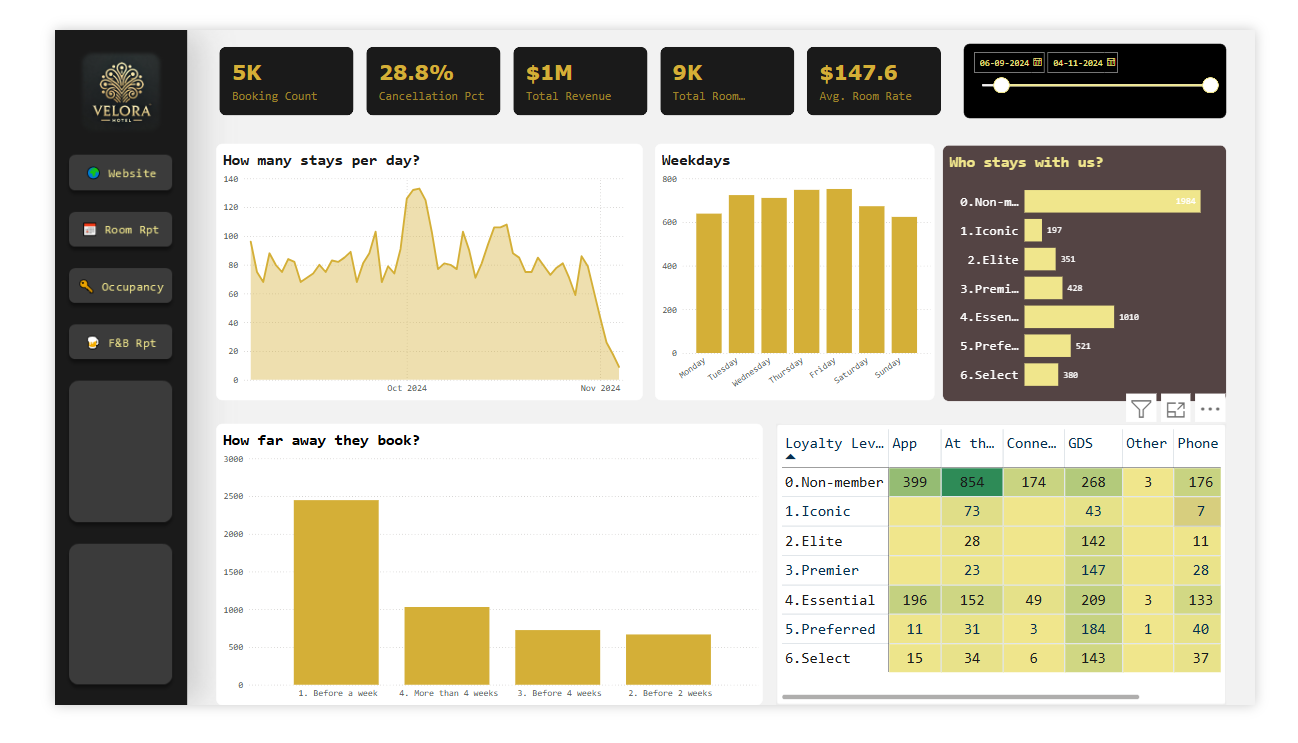

The page's visual inventory and layout, read from the dashboard file:
{"tool":"powerbi","page":{"name":"Bookings Reports","canvas":[1920,1080],"ordinal":0},"visuals":[{"type":"cardVisual","fields":{"Data":["bookings.Booking Count","bookings.Cancellation Pct","bookings.Total Revenue","bookings.Total Room Nights","bookings.Avg. Room Rate"]},"box":[258,22,1168,120],"z":0},{"type":"lineChart","title":"How many stays per day?","fields":{"Category":["bookings.Stay Date"],"Y":["bookings.Booking Count"]},"box":[258.8,182.8,682.2,410.8],"z":1000},{"type":"slicer","fields":{"Values":["bookings.Stay Date"]},"box":[1455,21.7,419.8,119.4],"z":2000},{"type":"clusteredColumnChart","title":"Weekdays","fields":{"Category":["bookings.Day Name"],"Y":["bookings.Booking Count"]},"box":[959.1,182.8,447,410.8],"z":3000},{"type":"clusteredBarChart","title":"Who stays with us?","fields":{"Y":["bookings.Booking Count"],"Category":["bookings.Loyalty Level"]},"box":[1420.6,184.6,454.2,410.8],"z":4000},{"type":"clusteredColumnChart","title":"How far away they book?","fields":{"Category":["bookings.How far away bucket"],"Y":["bookings.Booking Count"]},"box":[258.8,629.8,874.1,450.6],"z":5000},{"type":"pivotTable","fields":{"Rows":["bookings.Loyalty Level"],"Columns":["bookings.Booking Channel"],"Values":["bookings.Booking Count"]},"box":[1154.6,629.8,720.2,450.6],"z":6000}]}

Visuals, with their boxes on the page's 1920x1080 design canvas (x1, y1, x2, y2). These are canvas units, not pixel positions in the 1298x743 screenshot, which may show the page scaled, cropped or inside an application window:
cardVisual - bookings.Booking Count x bookings.Cancellation Pct: (258,22,1426,142)
"How many stays per day?" lineChart: (259,183,941,594)
slicer - bookings.Stay Date: (1455,22,1875,141)
"Weekdays" clusteredColumnChart: (959,183,1406,594)
"Who stays with us?" clusteredBarChart: (1421,185,1875,595)
"How far away they book?" clusteredColumnChart: (259,630,1133,1080)
pivotTable - bookings.Loyalty Level x bookings.Booking Channel: (1155,630,1875,1080)
